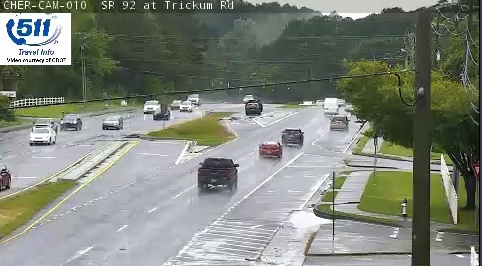car: (197, 157, 237, 186), (260, 142, 282, 159), (282, 128, 303, 145), (330, 115, 349, 132)
van: (322, 98, 339, 117)
